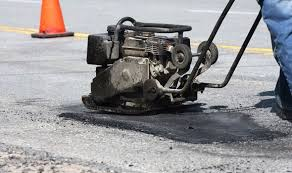pothole: (53, 109, 283, 156)
